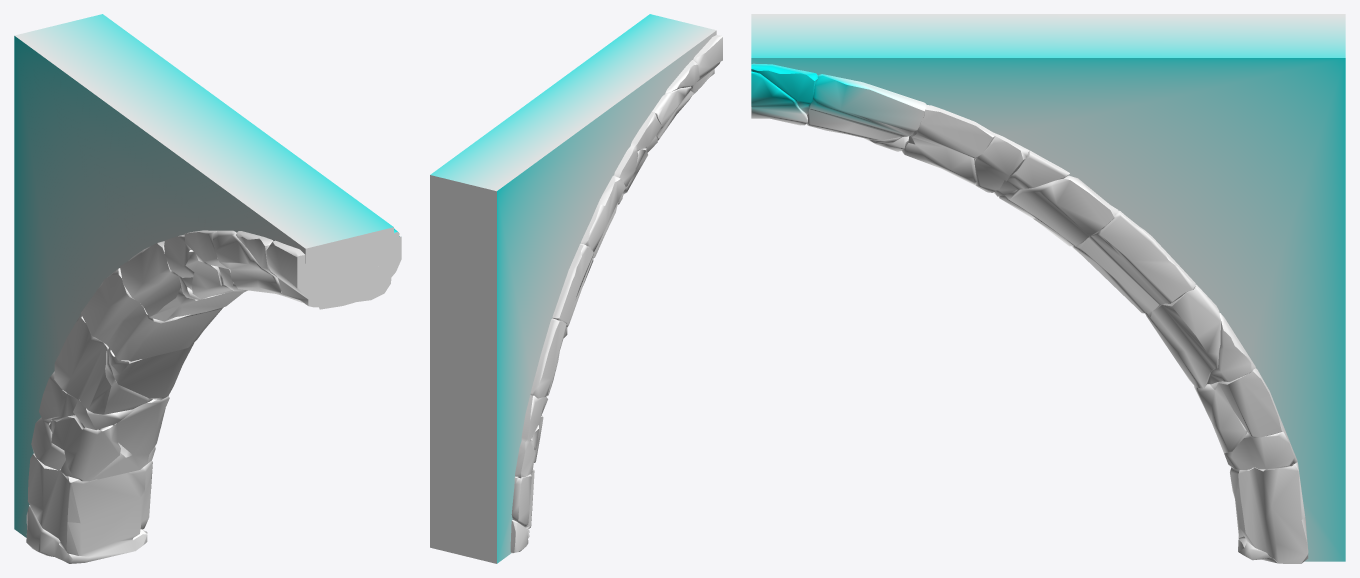
Rendered from SM_ArchWall_OpenArch_8x4_A_Half.fbx.
3 views of the same model, side by side, from view 1: azimuth 30°, elevation 25°; view 2: azimuth 150°, elevation 25°; view 3: azimuth 270°, elevation 25° (orthographic). The views are drawn at different scales.
Visible parts, largest first — view 1: SM_ArchWall_OpenArch_8x4_A_Half_LOD0; view 2: SM_ArchWall_OpenArch_8x4_A_Half_LOD0; view 3: SM_ArchWall_OpenArch_8x4_A_Half_LOD0.
Part boxes in pixels (x1=…): SM_ArchWall_OpenArch_8x4_A_Half_LOD0: x1=14, y1=14, x2=401, y2=563; SM_ArchWall_OpenArch_8x4_A_Half_LOD0: x1=430, y1=14, x2=722, y2=563; SM_ArchWall_OpenArch_8x4_A_Half_LOD0: x1=751, y1=14, x2=1345, y2=563.
Size of the model in its own units: 58.76 by 282 by 264.
